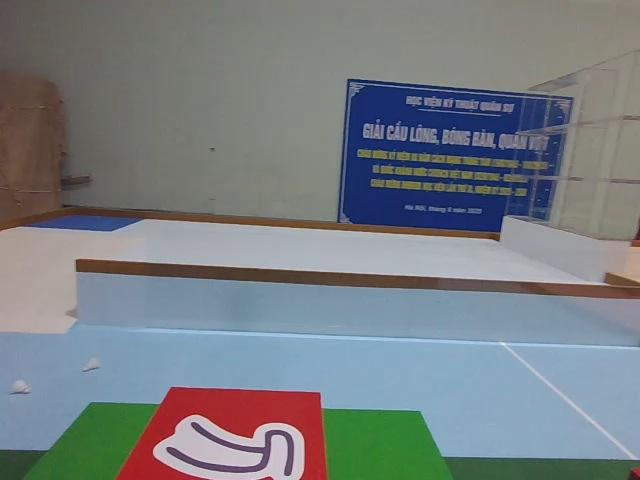R2 Fake: (113, 383, 329, 480)
